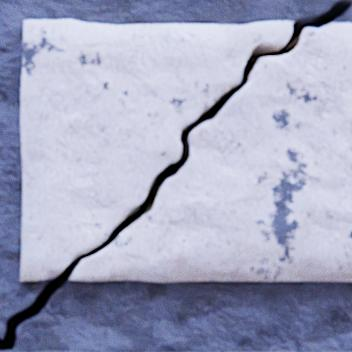broken_brick: (69, 24, 351, 281), (21, 20, 292, 280), (225, 350, 292, 351), (40, 350, 77, 351), (324, 350, 351, 351)
crack: (0, 0, 351, 351)
